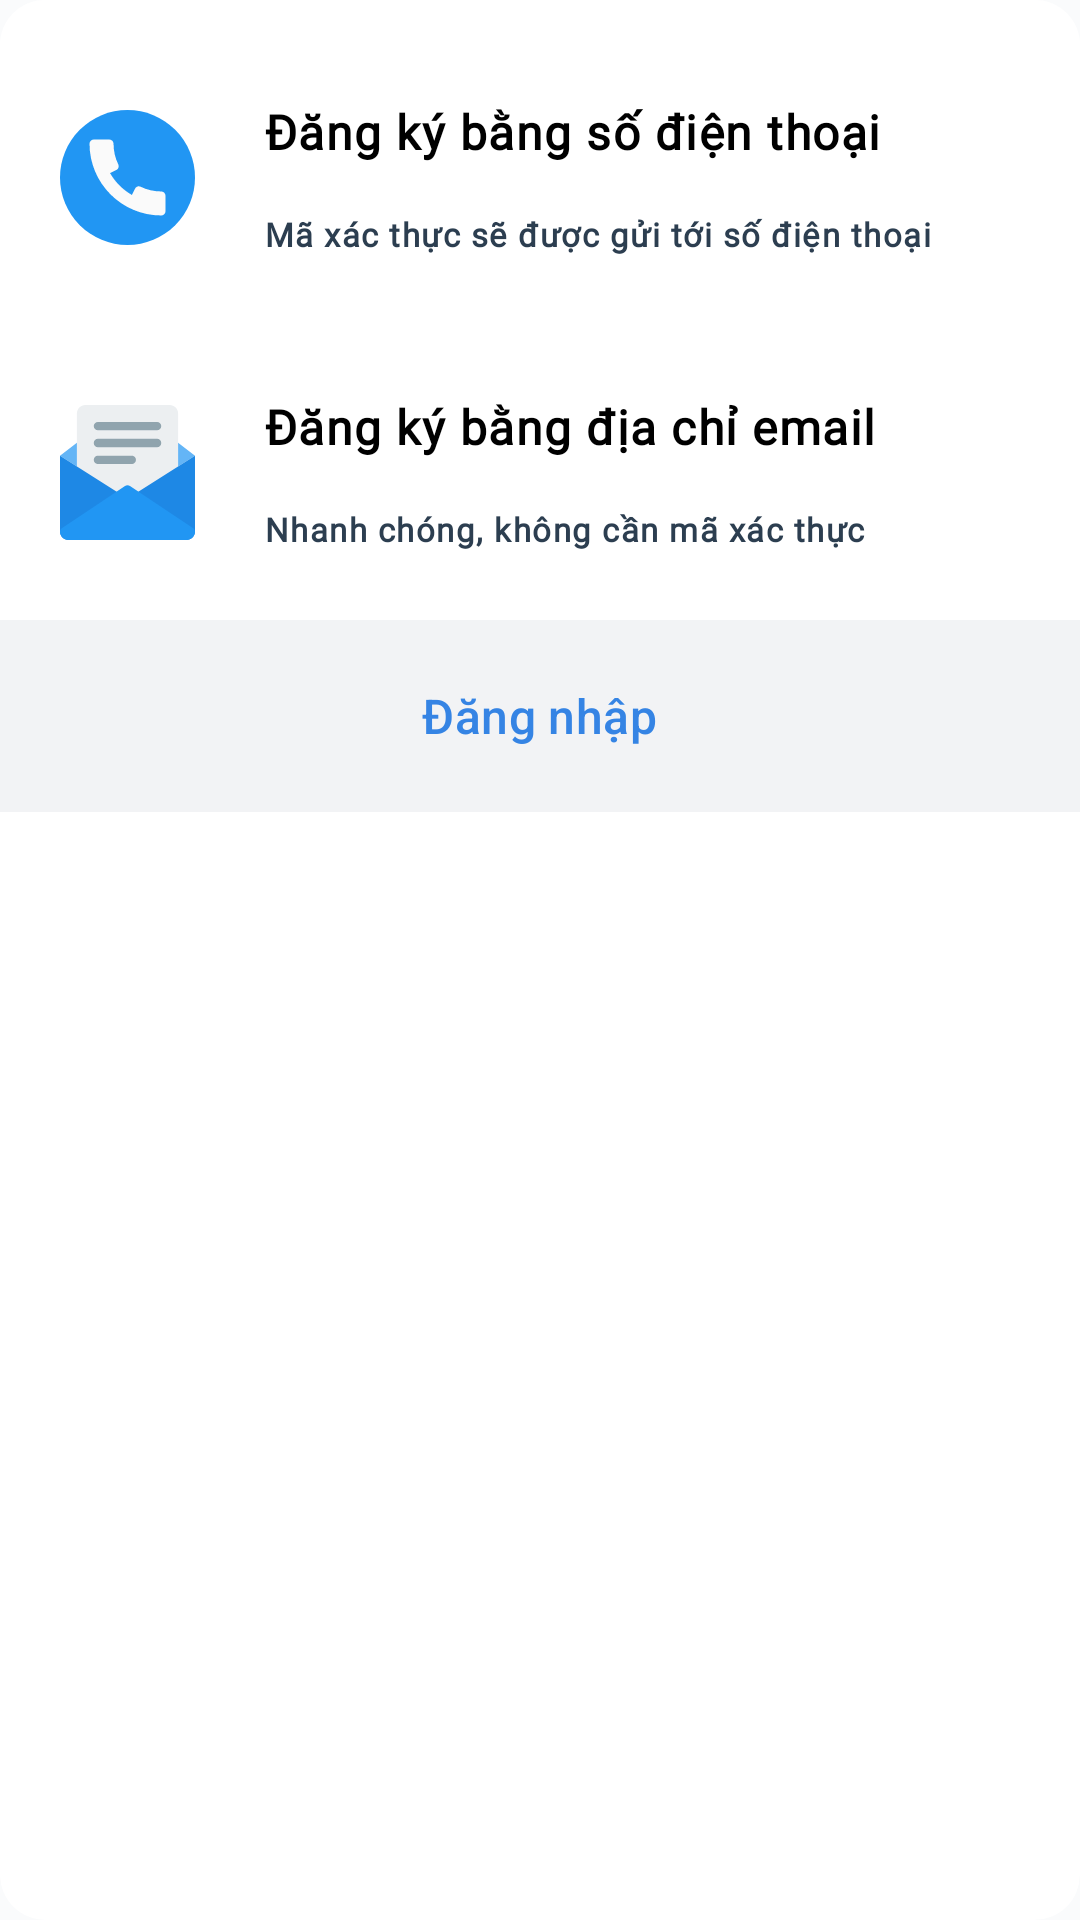

Locate icon controls on the screen. Image size 1080 × 1920, boxes as (x1, y1, x2, y2).
phone: (60, 110, 195, 245)
